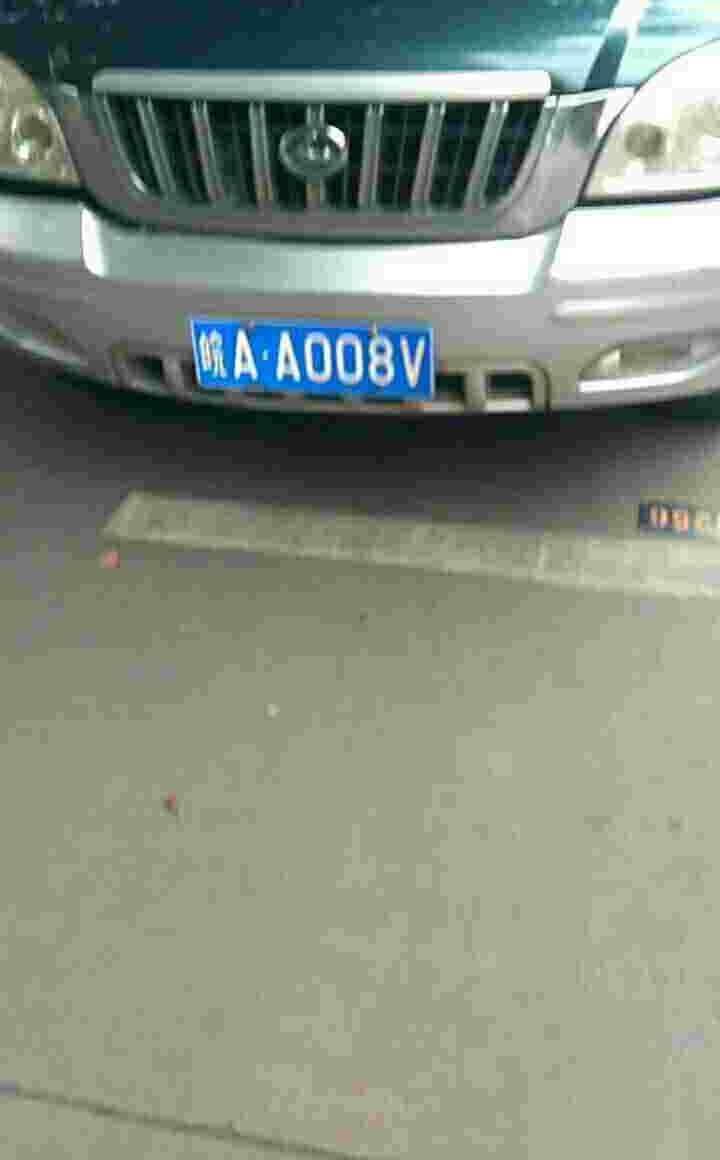license_plate: (200, 322, 452, 388)
